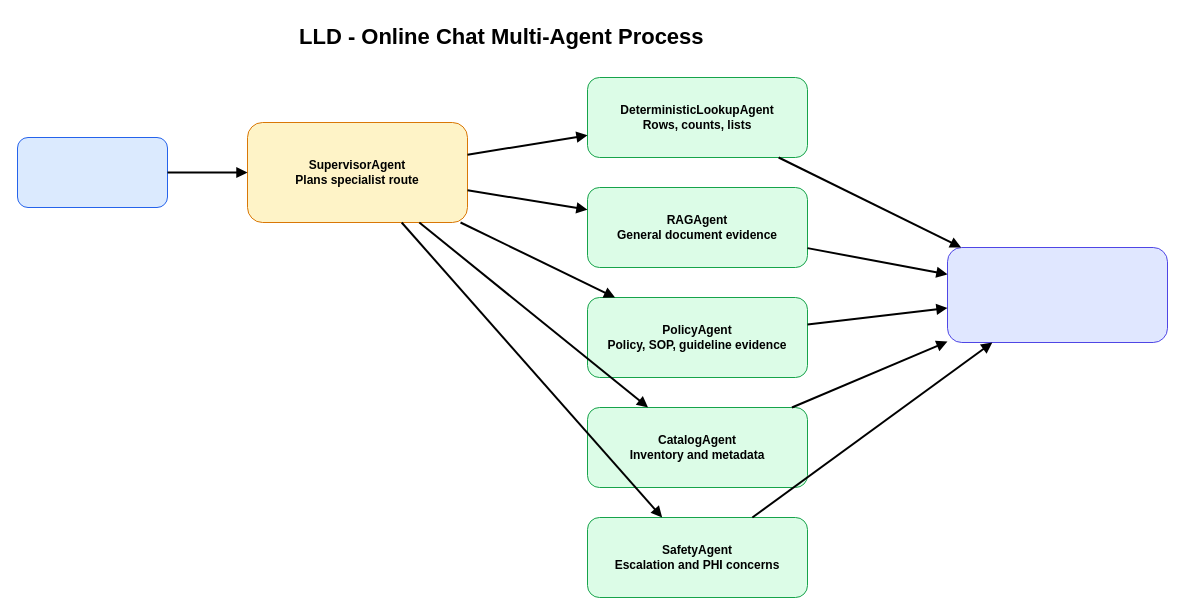
Image size: 1185x615. Some labels were removed from this diagram. The centre of each missing label's shape, as x and y in pixels:
POST /chat: point 92,172
SynthesisAgent Consistent final answer: point 1057,294
